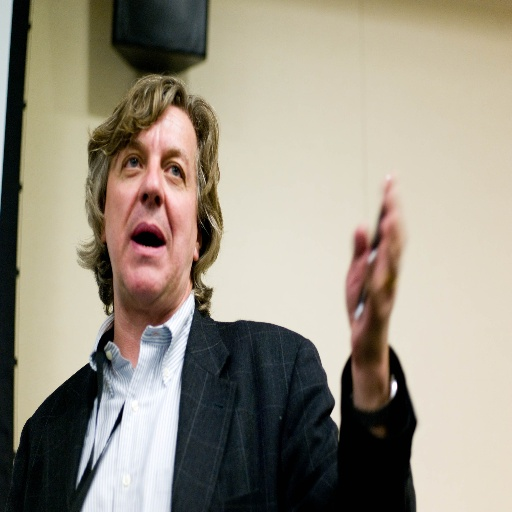hand: (339, 178, 407, 433)
